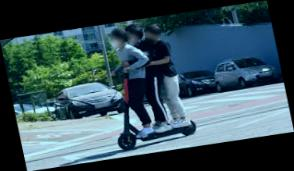multiple: (93, 17, 199, 150)
